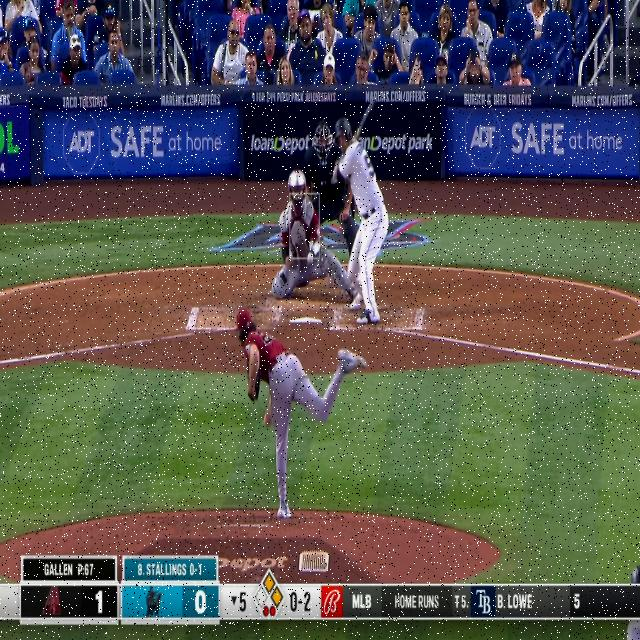baseball: (306, 250, 315, 266)
